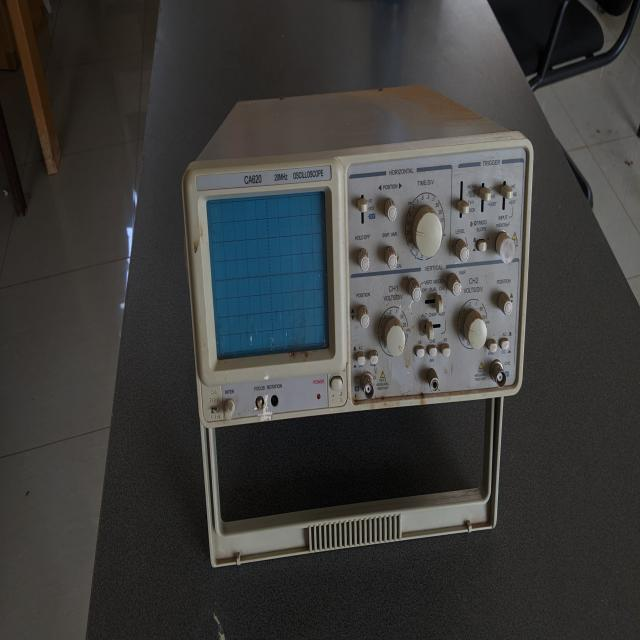Cathode Ray Oscilloscope: (176, 74, 537, 575)
